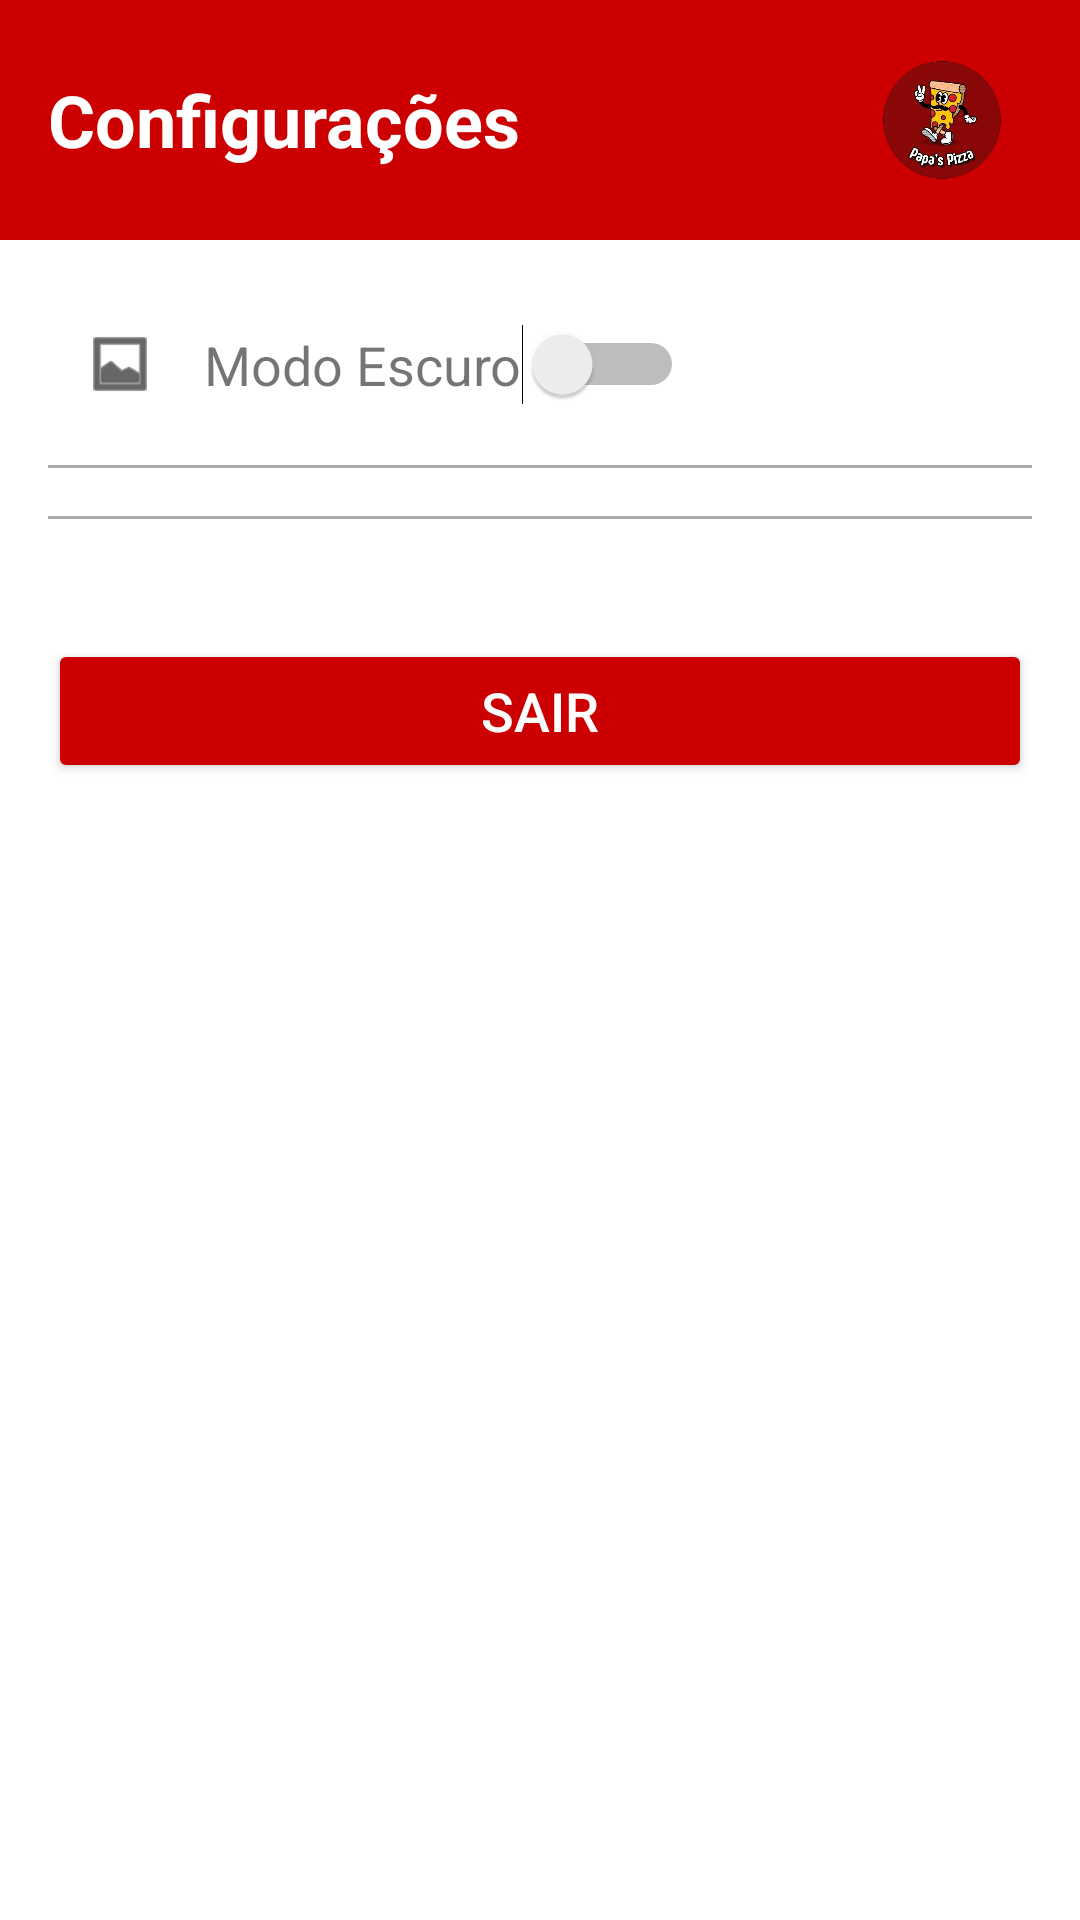

Icons on this 1080 x 1920 Android screen, each with its box as (left=x1, top=y1, right=x2, bottom=y2):
gallery: (left=93, top=337, right=147, bottom=391)
